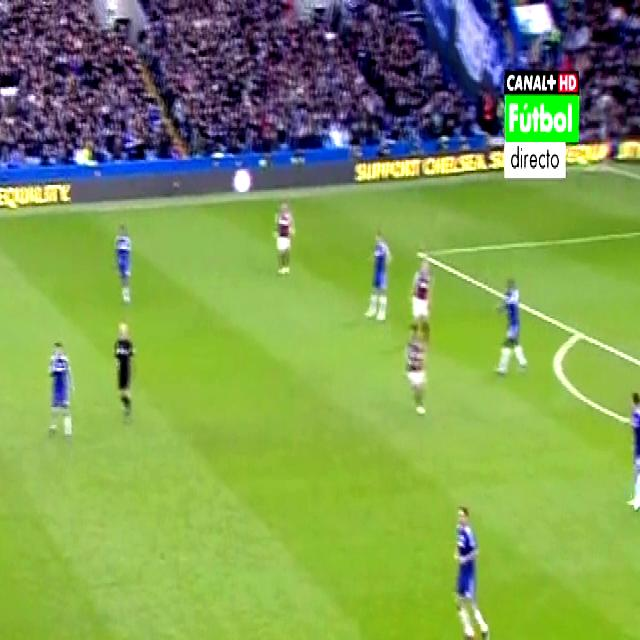referee: (110, 314, 140, 428)
soccer-player: (442, 489, 492, 640), (489, 263, 531, 386), (41, 326, 77, 448), (402, 243, 433, 350), (399, 328, 432, 427), (366, 217, 395, 327), (618, 377, 638, 521), (268, 192, 296, 287), (110, 215, 137, 312)
